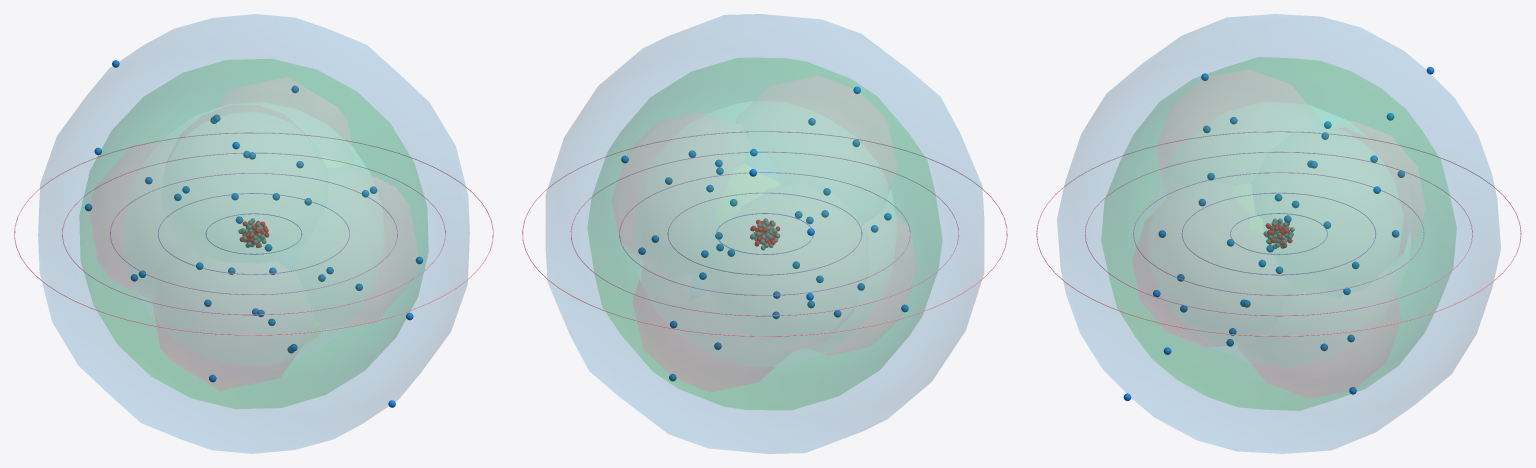
3 views of the same model, side by side, from view 1: azimuth 30°, elevation 25°; view 2: azimuth 150°, elevation 25°; view 3: azimuth 270°, elevation 25° (orthographic).
Visible parts, largest first — view 1: Orbital_5s_0, Orbital_4s_0, Orbital_4p_0, Orbital_4p_1, Nivel_n5, Nivel_n4, Orbital_3s_0, Nivel_n3, Orbital_4p_2, Nivel_n2; view 2: Orbital_5s_0, Orbital_4s_0, Orbital_4p_2, Orbital_4p_1, Nivel_n5, Nivel_n4, Orbital_3s_0, Nivel_n3, Nivel_n2; view 3: Orbital_5s_0, Orbital_4s_0, Orbital_4p_2, Orbital_4p_0, Nivel_n5, Orbital_4p_1, Nivel_n4, Orbital_3s_0, Nivel_n3, Nivel_n2.
Boxes of the visible parts, box(x1,y1,x2,y2) form: Orbital_5s_0: box(38, 14, 469, 453); Orbital_4s_0: box(80, 59, 427, 408); Orbital_4p_0: box(90, 142, 417, 325); Orbital_4p_1: box(154, 77, 351, 390); Nivel_n5: box(14, 132, 493, 335); Nivel_n4: box(62, 152, 445, 315); Orbital_3s_0: box(135, 108, 369, 357); Nivel_n3: box(110, 173, 397, 294); Orbital_4p_2: box(167, 105, 309, 162); Nivel_n2: box(158, 193, 349, 274); Orbital_5s_0: box(546, 14, 983, 453); Orbital_4s_0: box(588, 58, 941, 409); Orbital_4p_2: box(633, 76, 896, 391); Orbital_4p_1: box(612, 113, 917, 354); Nivel_n5: box(522, 131, 1007, 336); Nivel_n4: box(570, 151, 959, 316); Orbital_3s_0: box(635, 102, 895, 365); Nivel_n3: box(619, 172, 910, 295); Nivel_n2: box(667, 192, 862, 275); Orbital_5s_0: box(1057, 14, 1500, 453); Orbital_4s_0: box(1101, 57, 1456, 410); Orbital_4p_2: box(1156, 70, 1401, 397); Orbital_4p_0: box(1133, 122, 1424, 345); Nivel_n5: box(1036, 131, 1521, 336); Orbital_4p_1: box(1339, 128, 1413, 257); Nivel_n4: box(1085, 151, 1472, 316); Orbital_3s_0: box(1148, 105, 1410, 362); Nivel_n3: box(1133, 172, 1424, 295); Nivel_n2: box(1182, 192, 1375, 275).
Size of the model in its own units: 1.5 by 1.37 by 1.5.
